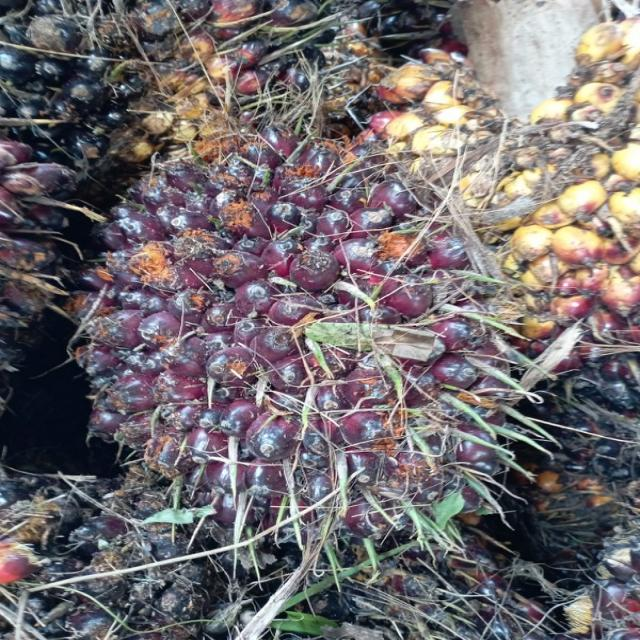fraksi 1: (0, 96, 531, 544)
